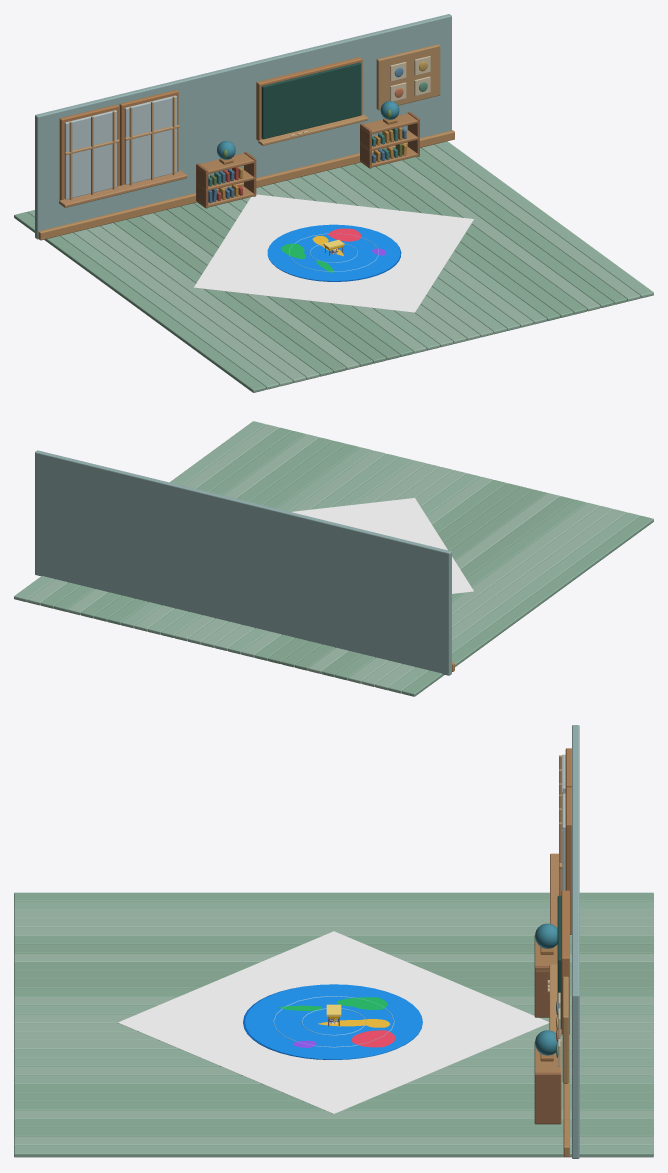
The model's file is classroom.glb.
The picture shows the model from 3 angles, top to bottom: view 1: azimuth 30°, elevation 25°; view 2: azimuth 150°, elevation 25°; view 3: azimuth 270°, elevation 25°; orthographic projection. The views are drawn at different scales.
Parts seen in each view (by area): view 1: classroom-interior, floor-top, rug-top; view 2: classroom-interior, floor-top; view 3: classroom-interior, floor-top, rug-top, continent-3.
Boxes of the visible parts, x1,y1,x2,y2 form: classroom-interior: (14, 14, 653, 392); floor-top: (194, 194, 473, 312); rug-top: (267, 224, 400, 280); classroom-interior: (14, 421, 653, 696); floor-top: (291, 498, 473, 593); classroom-interior: (14, 725, 653, 1158); floor-top: (118, 931, 549, 1113); rug-top: (245, 984, 422, 1059); continent-3: (352, 1030, 395, 1047).
Size of the model in its own units: 18 by 5.24 by 18.
